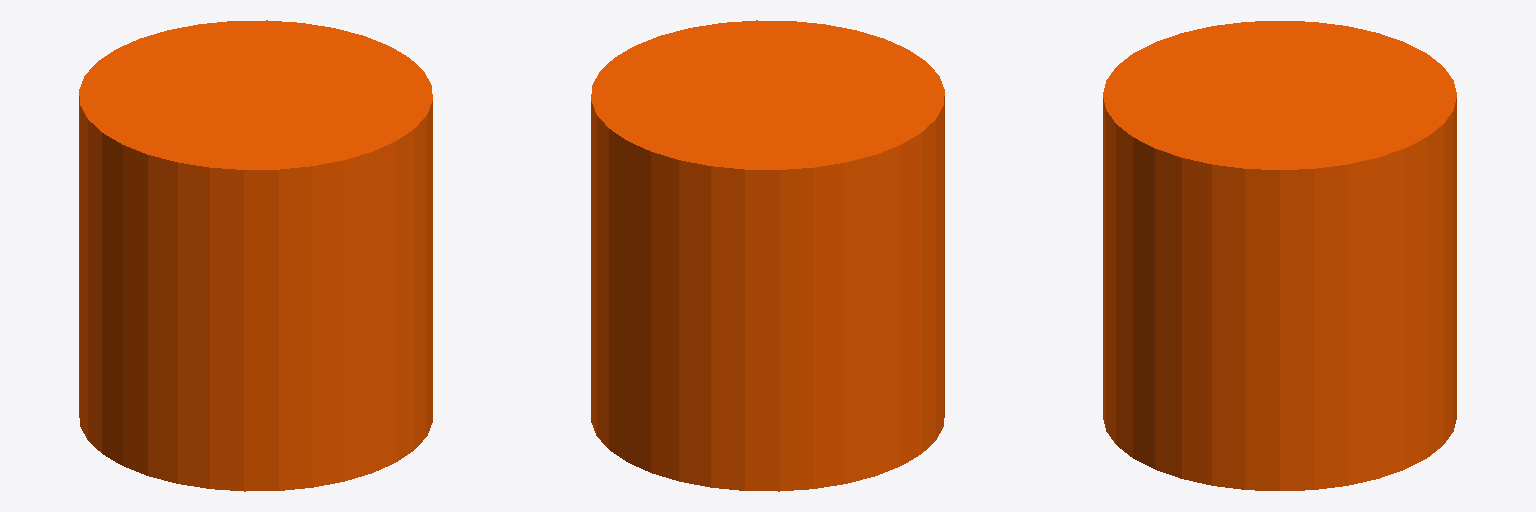
URDF robot description (cylindersmall):
<?xml version="1.0" ?>
<robot name="cylindersmall">
   <material name="obj_color">
      <color rgba="1.0 0.423529411765 0.0392156862745 1.0"/>
   </material>
   <link name="top">
      <inertial>
         <origin rpy="1.945384385003981e-05 2.277923872940746e-05 2.277923897973728e-05" xyz="-3.687010558319398e-11 2.736466205072768e-10 -1.528429795697942e-11"/>
         <mass value="0.09789237763481888"/>
         <inertia ixx="2.277923874350687e-05" ixy="5.771230630822199e-14" ixz="-2.736124237260456e-14" iyy="2.277923896563787e-05" iyz="-8.710464454854691e-15" izz="1.945384385003982e-05"/>
      </inertial>
      <visual>
         <origin rpy="0 0 0" xyz="0 0 0"/>
         <geometry>
            <mesh filename="top_watertight_tiny.stl" scale="1 1 1"/>
         </geometry>
         <material name="obj_color"/>
      </visual>
      <collision>
         <origin rpy="0 0 0" xyz="0 0 0"/>
         <geometry>
            <mesh filename="top_watertight_tiny.obj" scale="1 1 1"/>
         </geometry>
      </collision>
   </link>
   <link name="bottom">
      <inertial>
         <origin rpy="1.633333333194242e-08 1.633333333194243e-08 1.633333333357667e-08" xyz="0.3464080000000008 0.3464080000000008 0.3464080000000008"/>
         <mass value="0.0009800000000000017"/>
         <inertia ixx="1.633333333248717e-08" ixy="5.447480642029219e-19" ixz="5.447480642029219e-19" iyy="1.633333333248717e-08" iyz="5.447480642029219e-19" izz="1.633333333248717e-08"/>
      </inertial>
      <visual>
         <origin rpy="0 0 0" xyz="0 0 0"/>
         <geometry>
            <mesh filename="bottom_watertight_tiny.stl" scale="1 1 1"/>
         </geometry>
         <material name="obj_color"/>
      </visual>
   </link>
   <joint name="rotation" type="revolute">
      <origin xyz="0 0 0"/>
      <axis xyz="0 0 -1"/>
      <parent link="bottom"/>
      <child link="top"/>
      <dynamics damping="1.0" friction="1.0"/>
      <limit effort="0.1" velocity="0.1" lower="0" upper="0.001"/>
   </joint>
</robot>

--- Facts derived from the render (not from the file) ---
3 views of the same robot in one strip: view 1: azimuth 30°, elevation 25°; view 2: azimuth 150°, elevation 25°; view 3: azimuth 270°, elevation 25° (orthographic).
Robot: cylindersmall — 2 links, 1 joints (1 revolute); root link bottom; default pose: every joint at zero.
Links seen in each view (by area): view 1: top; view 2: top; view 3: top.
Boxes of the visible links, x1,y1,x2,y2 form: top: [79, 20, 432, 491]; top: [591, 20, 944, 491]; top: [1103, 21, 1456, 490].
Bounding box of the posed robot: 0.04 × 0.04 × 0.04 m (x, y, z).
Meshes: 2 distinct files referenced, 1 mesh visuals loaded (1 binary STL); not drawn: 1 (reference not matched to a file when rendering).
